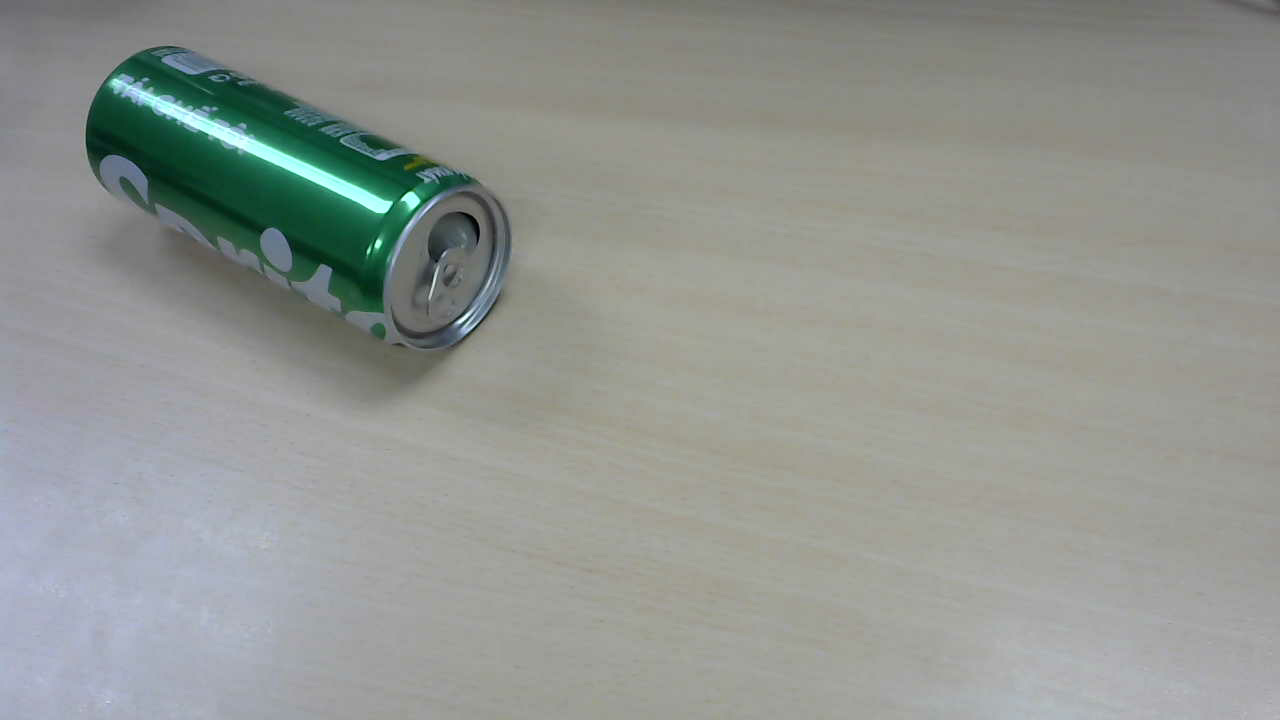Sprite: (89, 47, 515, 364)
